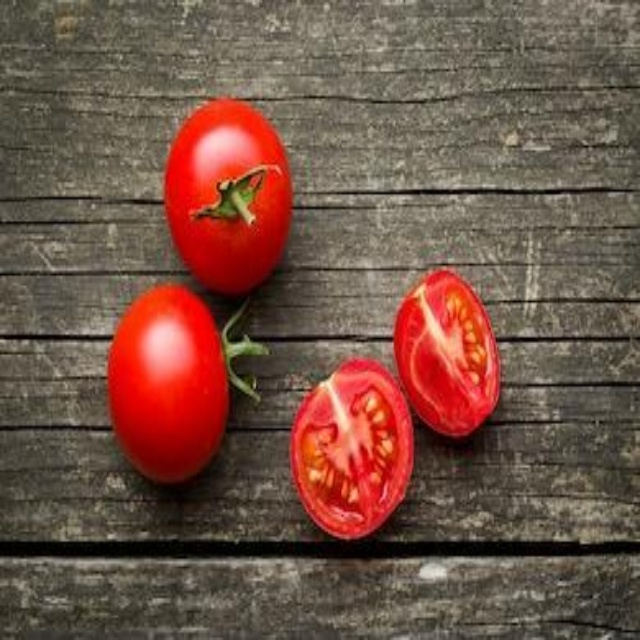tomato: (292, 266, 496, 536), (90, 296, 244, 480), (166, 102, 293, 286)
